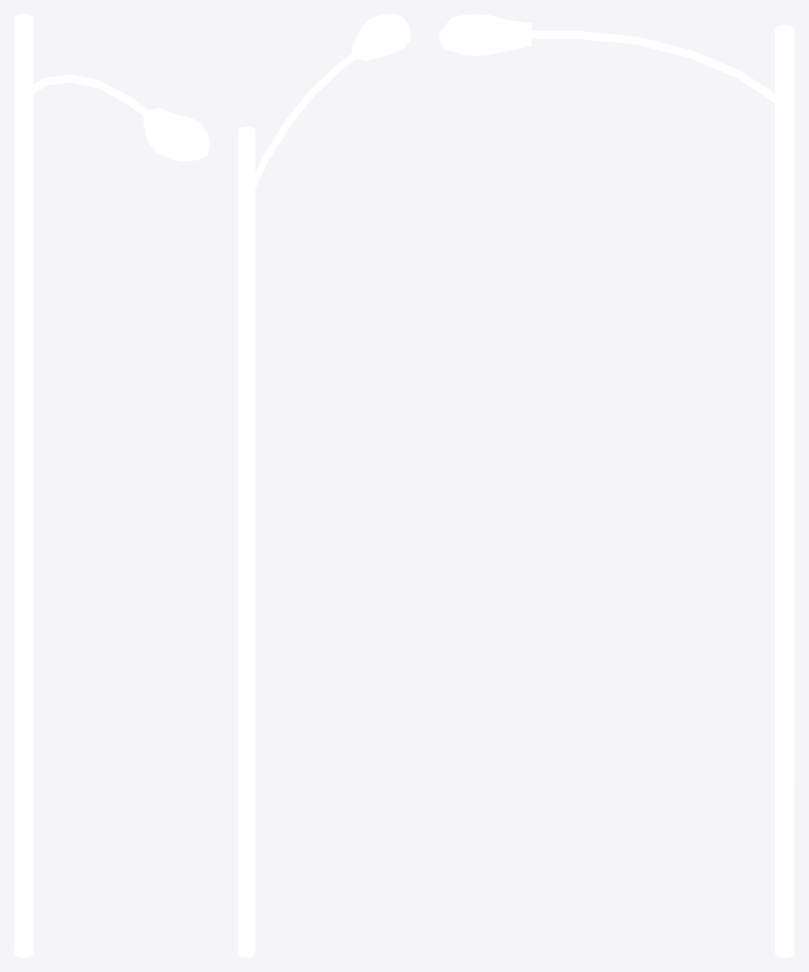
Rendered from street_light_modern.glb.
3 renders of one model, left to right at view 1: azimuth 30°, elevation 25°; view 2: azimuth 150°, elevation 25°; view 3: azimuth 270°, elevation 25°, orthographic. The views are drawn at different scales.
Visible parts, largest first — view 1: street_light_modern; view 2: street_light_modern; view 3: street_light_modern.
Part boxes in pixels (x1,y1,x2,y2): street_light_modern: [14, 14, 209, 957]; street_light_modern: [238, 14, 410, 957]; street_light_modern: [439, 14, 794, 957].
Bounding box in the file's own units: 0.3683 × 7 × 2.4.
1 material, 1 textured.
